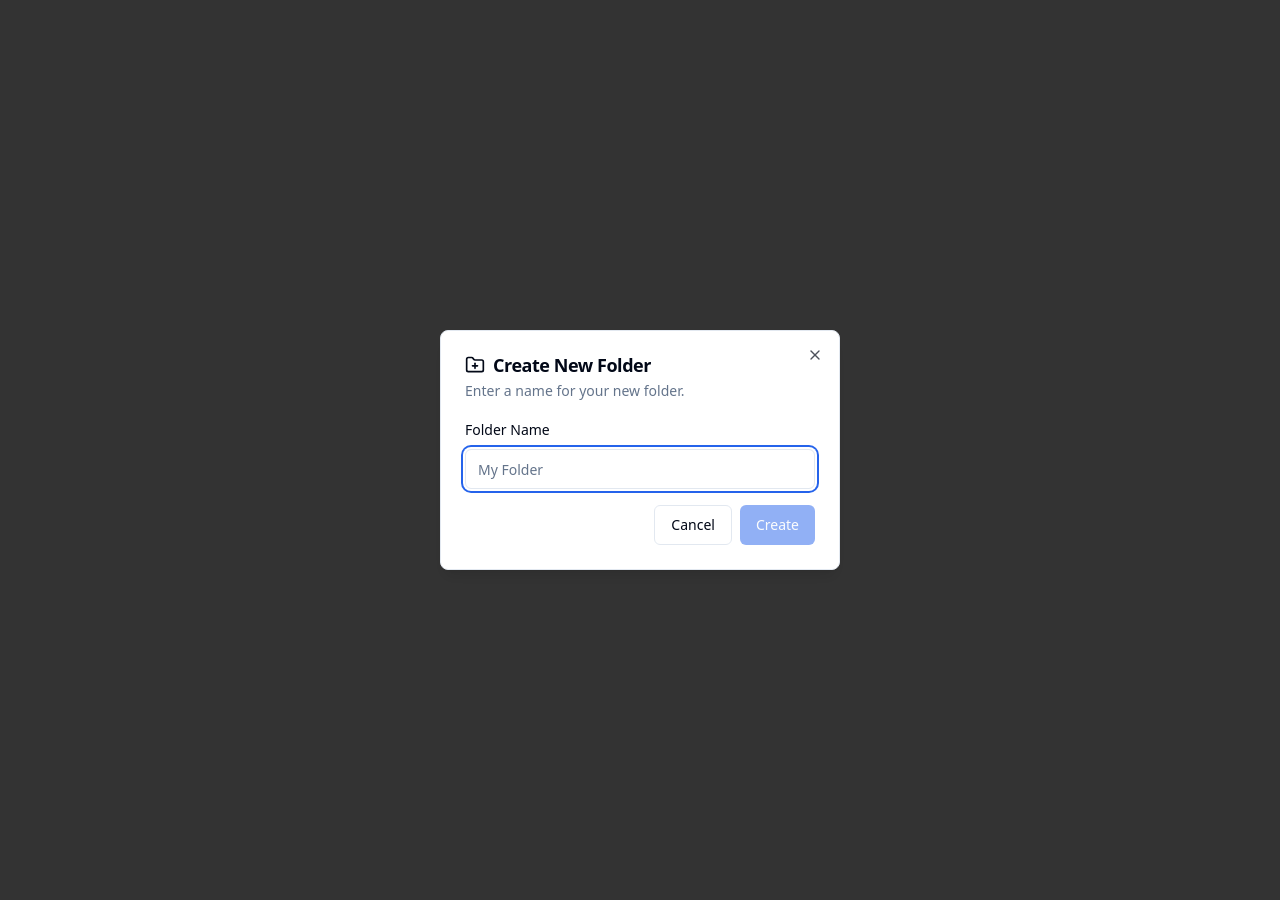
CreateFolderDialog › should enable submit button when input has value
Type "Test" into the field labelled "Folder Name" at point(640, 469), box [465,449,815,489]
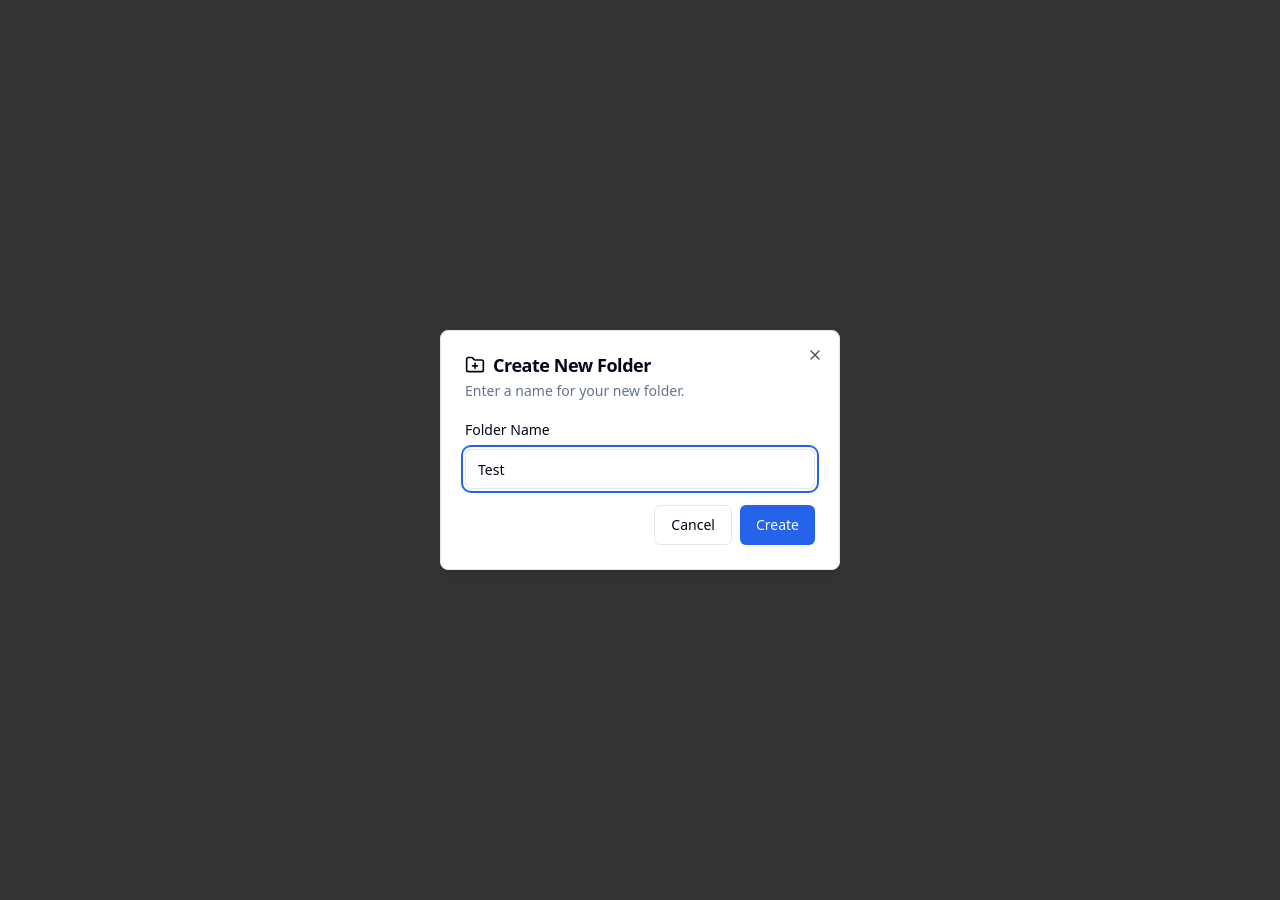
Check: the button "Create" is enabled, box [740,505,815,545]
